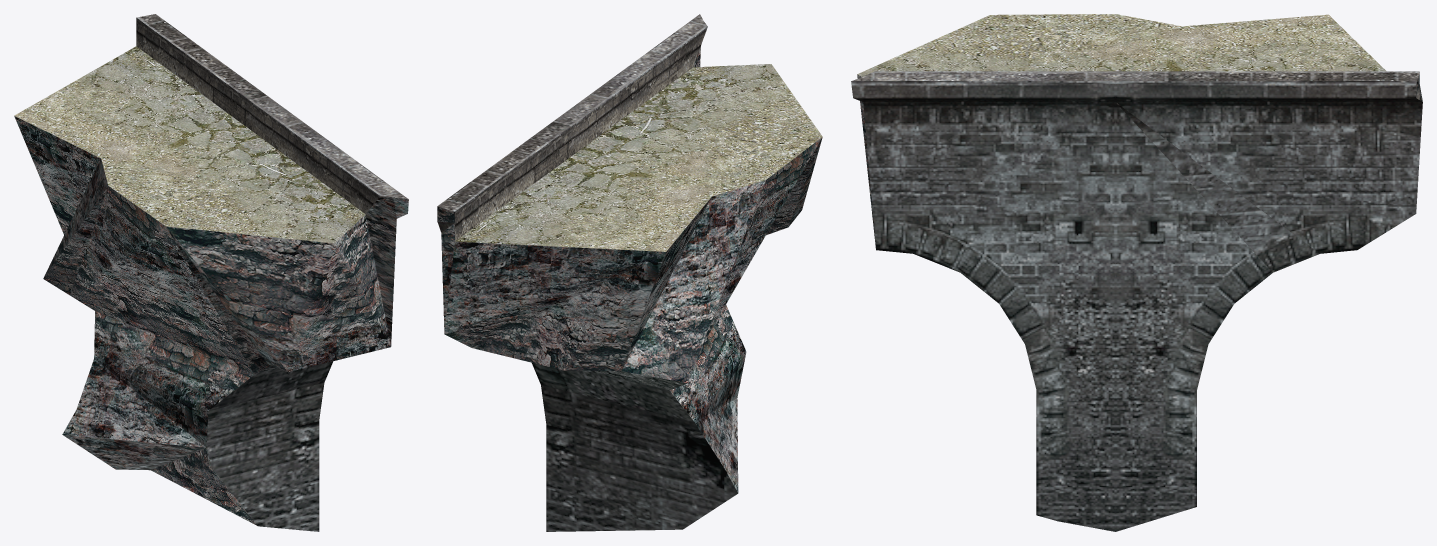
The model's file is BridgeTop1.fbx.
The picture shows the model from 3 angles, left to right: view 1: azimuth 30°, elevation 25°; view 2: azimuth 150°, elevation 25°; view 3: azimuth 270°, elevation 25°; orthographic projection. The views are drawn at different scales.
Parts seen in each view (by area): view 1: D01_trosky_02, D01_trosky_01; view 2: D01_trosky_02, D01_trosky_01; view 3: D01_trosky_02, D01_trosky_01.
Part boxes in pixels (box(x1,y1,x2,y2)): D01_trosky_02: box(14, 14, 408, 470); D01_trosky_01: box(151, 383, 324, 531); D01_trosky_02: box(437, 14, 822, 530); D01_trosky_01: box(543, 403, 683, 531); D01_trosky_02: box(851, 14, 1422, 366); D01_trosky_01: box(1025, 344, 1202, 531).
Bounding box in the file's own units: 525 × 1064 × 1214.
